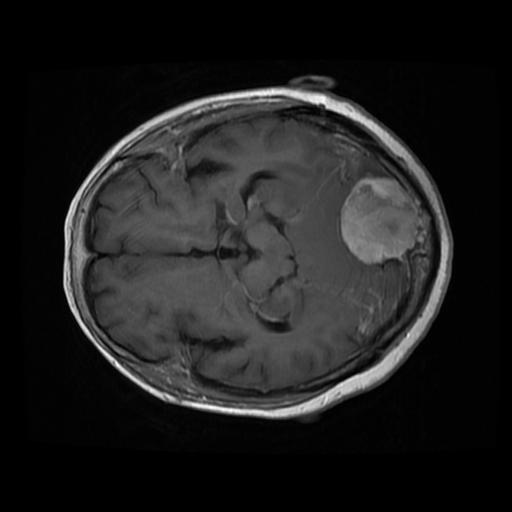meningioma: (339, 176, 418, 265)
